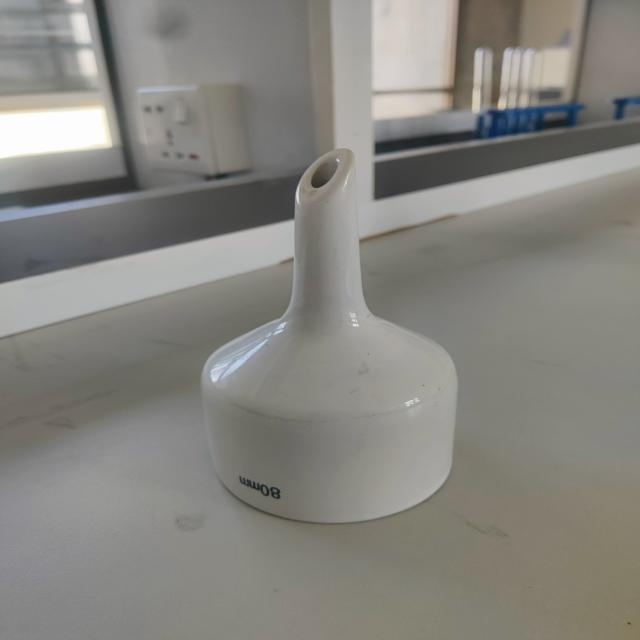Buchner_Funnel: (150, 124, 519, 562)
